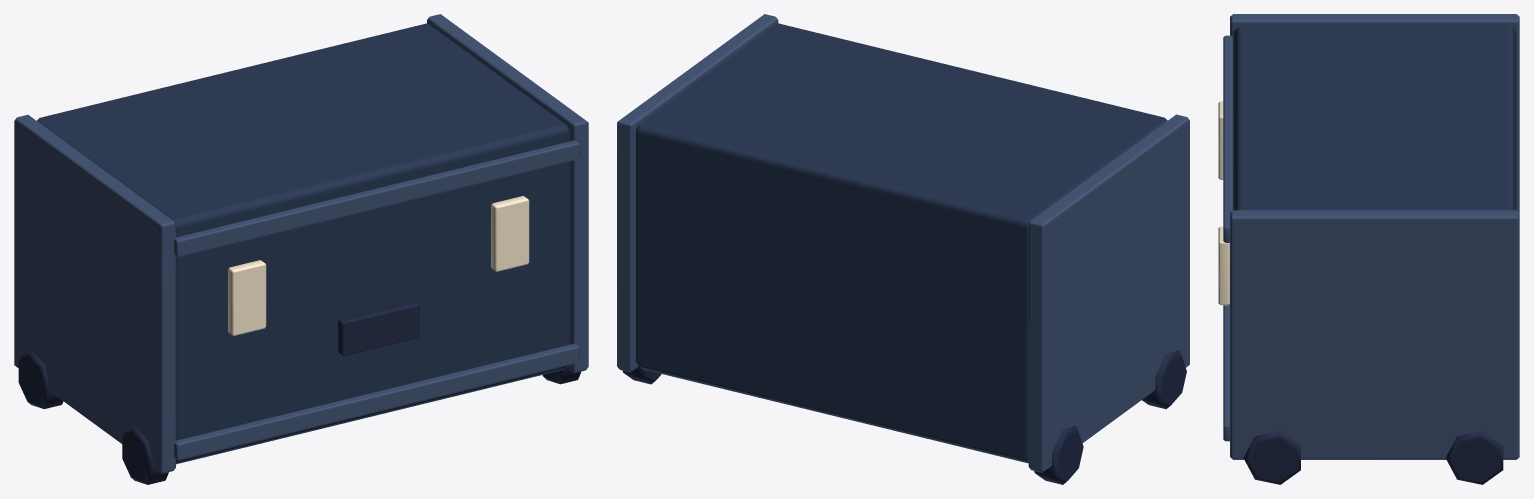
File: road_case.glb
3 views of the same model, side by side, from view 1: azimuth 30°, elevation 25°; view 2: azimuth 150°, elevation 25°; view 3: azimuth 270°, elevation 25° (orthographic). The views are drawn at different scales.
Visible parts, largest first — view 1: road_case; view 2: road_case; view 3: road_case.
Part boxes in pixels (x1,y1,x2,y2): road_case: [14, 14, 588, 484]; road_case: [617, 14, 1189, 484]; road_case: [1218, 14, 1519, 484].
Bounding box in the file's own units: 1.47 × 0.8767 × 0.895.
